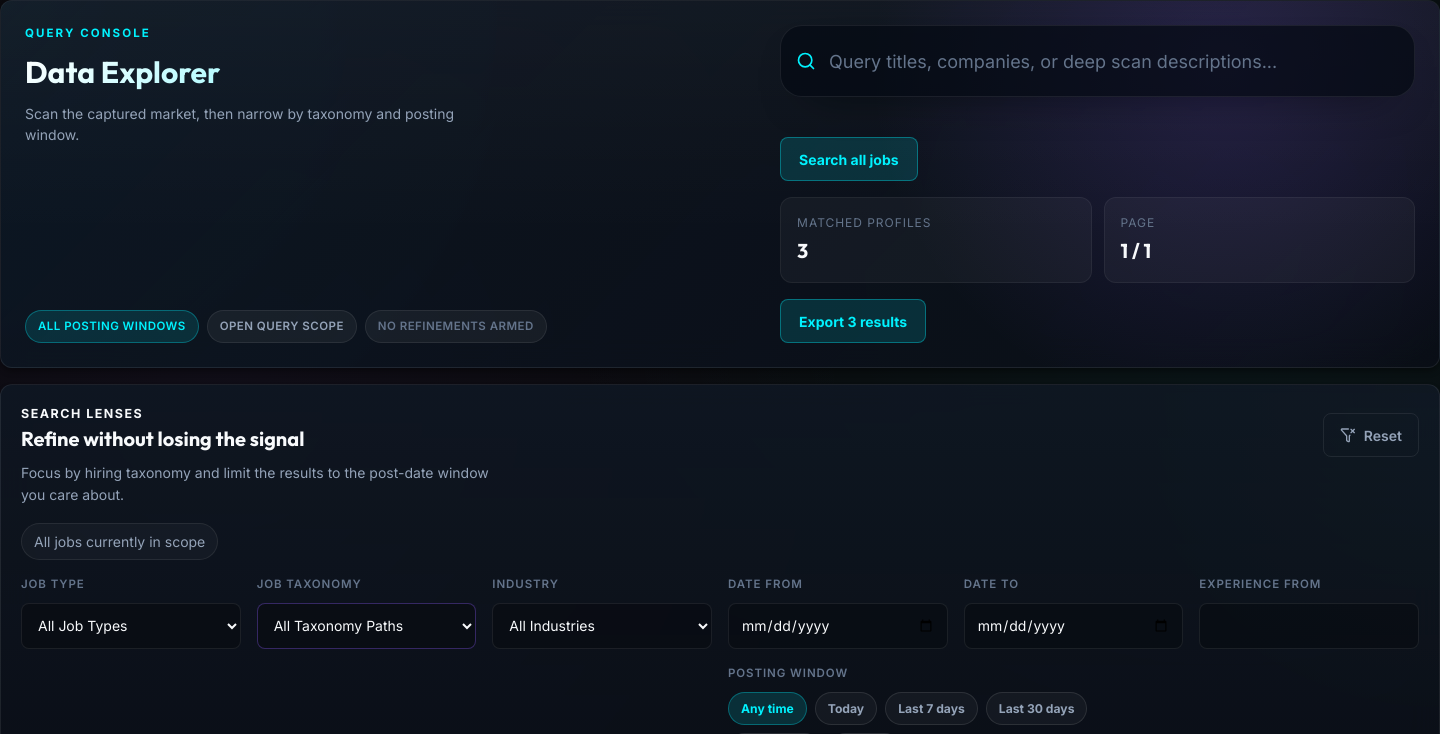
Test: JobBrowser › disables export when the active scope has zero results
Type "=NoMatch" into the field with placeholder "Query titles, companies, or deep scan descriptions..." at (1098, 61), box [780,25,1415,97]
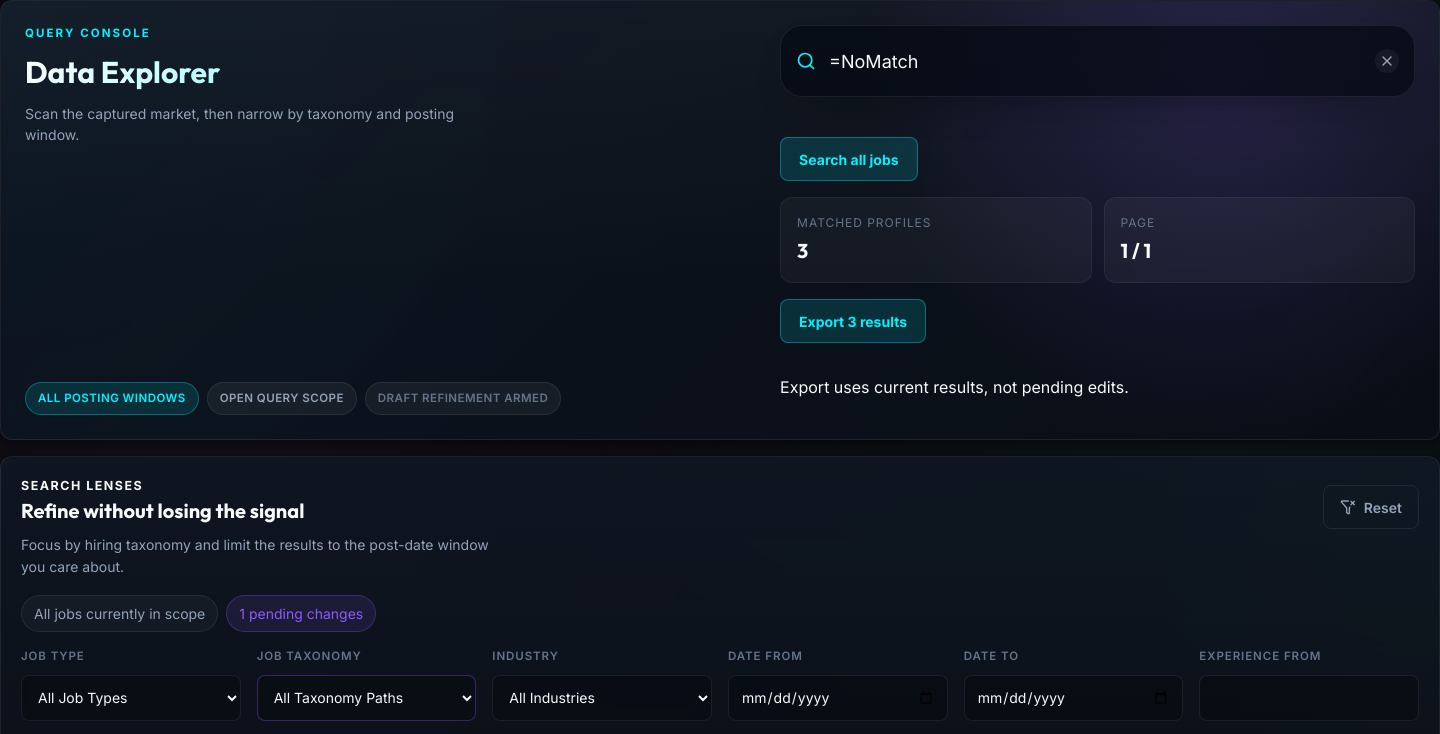
Click the button "Search all jobs" at (849, 159), box [780,137,918,181]
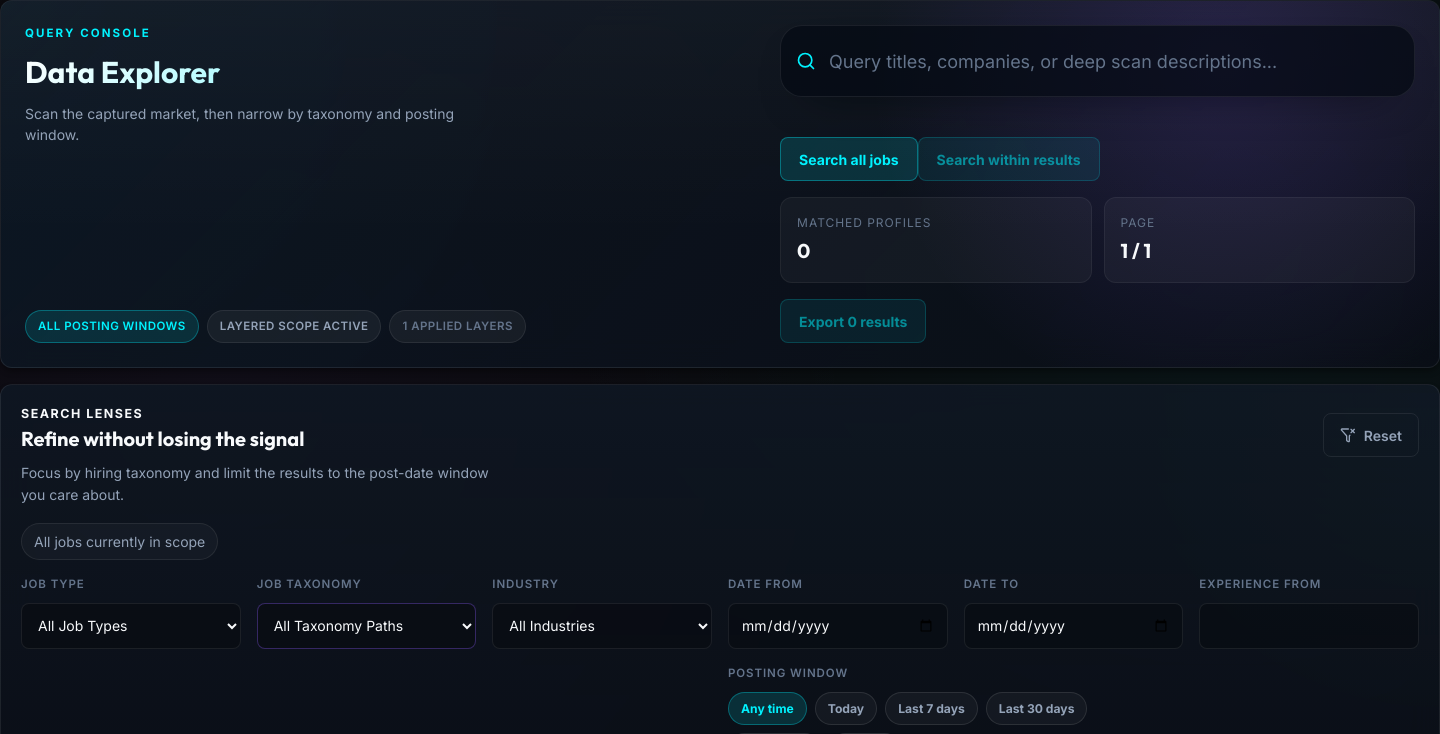
Expected: the button "Export 0 results" is disabled, [780,299,926,343]
